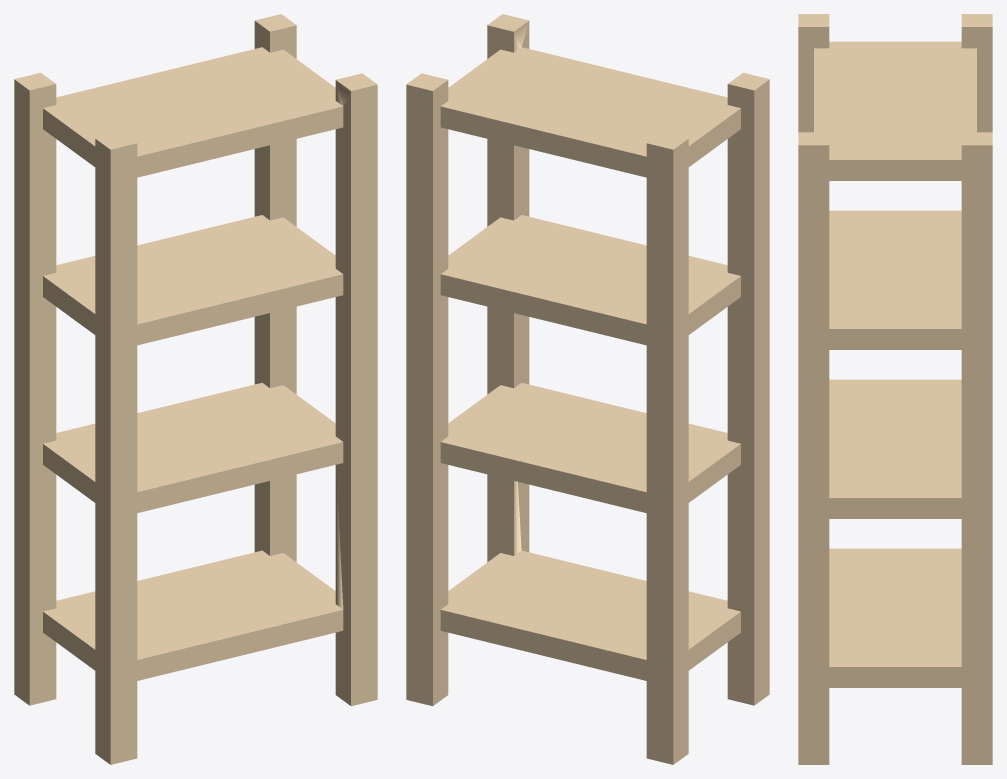
The model's file is bookcaseOpen.glb.
3 views of the same model, side by side, from view 1: azimuth 30°, elevation 25°; view 2: azimuth 150°, elevation 25°; view 3: azimuth 270°, elevation 25° (orthographic).
Parts seen in each view (by area): view 1: bookcaseOpen(Clone); view 2: bookcaseOpen(Clone); view 3: bookcaseOpen(Clone).
Boxes of the visible parts, <box> form: bookcaseOpen(Clone): <box>14,14,377,764</box>; bookcaseOpen(Clone): <box>406,14,769,764</box>; bookcaseOpen(Clone): <box>798,14,992,764</box>.
Size of the model in its own units: 0.4 by 0.88 by 0.25.
